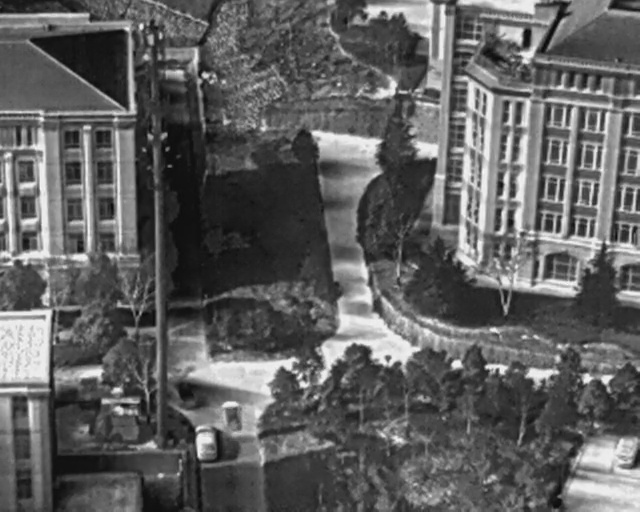Car: (194, 423, 218, 462), (220, 399, 243, 436), (619, 435, 640, 470)
